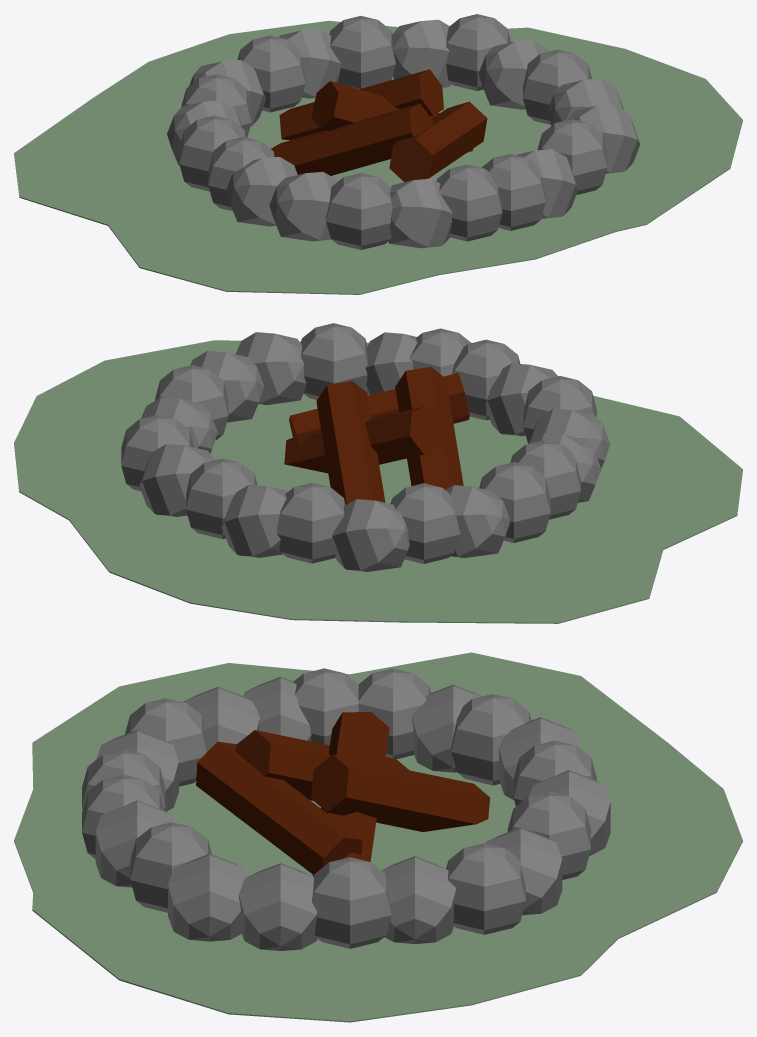
The model's file is snow_fire.fbx.
3 views of the same model, one above another, from view 1: azimuth 30°, elevation 25°; view 2: azimuth 150°, elevation 25°; view 3: azimuth 270°, elevation 25° (orthographic). The views are drawn at different scales.
Parts seen in each view (by area): view 1: pTorus2; view 2: pTorus2; view 3: pTorus2.
Part boxes in pixels (<box>): pTorus2: <box>14,14,742,294</box>; pTorus2: <box>14,323,742,623</box>; pTorus2: <box>14,652,742,1022</box>.
Size of the model in its own units: 3.81 by 0.5851 by 3.18.
